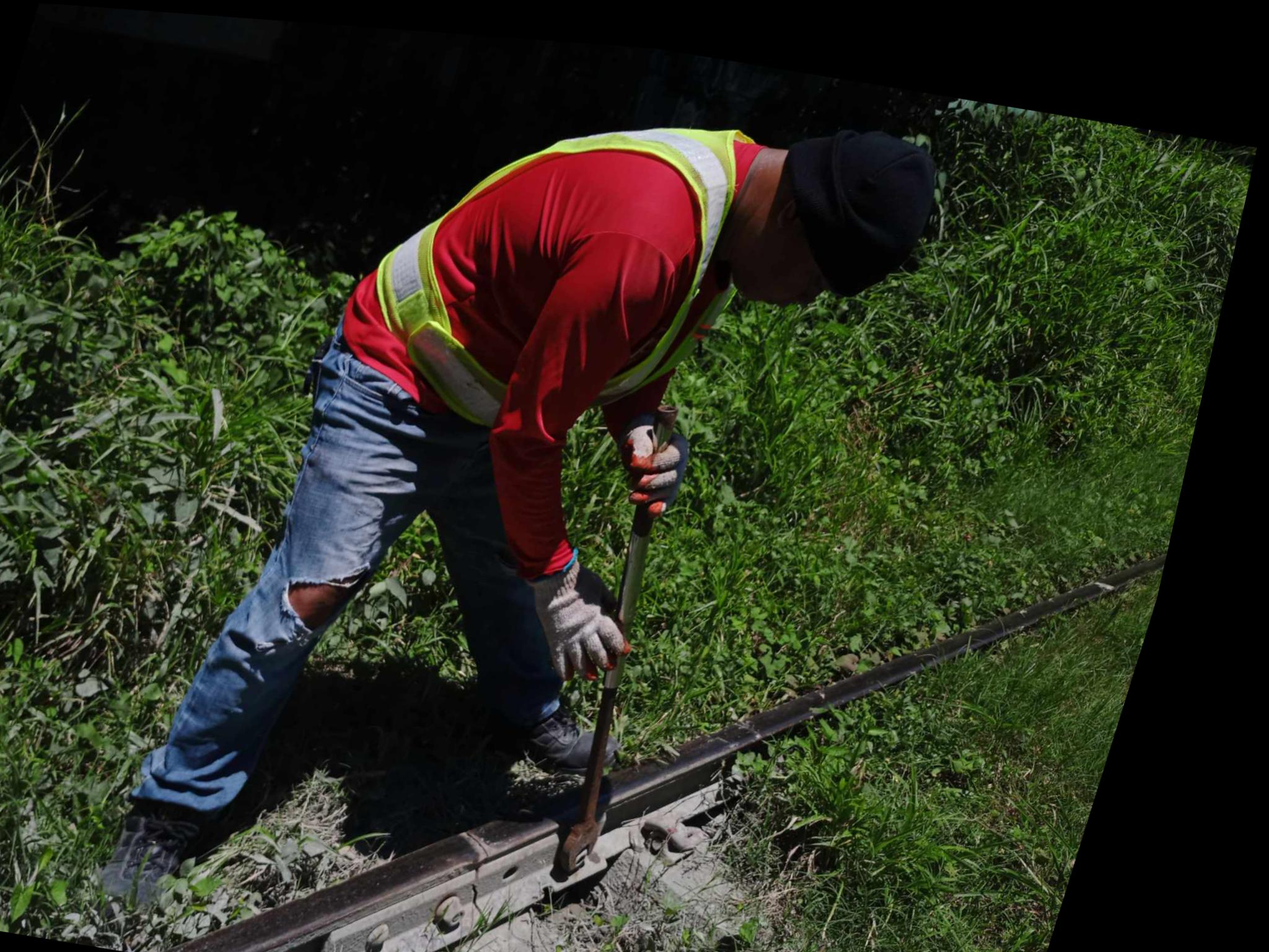person: (447, 780, 568, 891)
